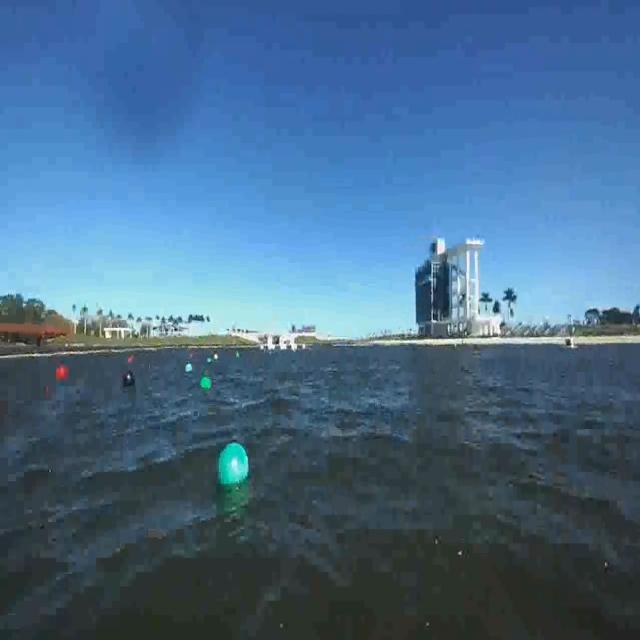black-buoy: (123, 366, 136, 386)
green-buoy: (217, 442, 251, 489), (202, 374, 212, 392)
red-buoy: (58, 364, 70, 381)
